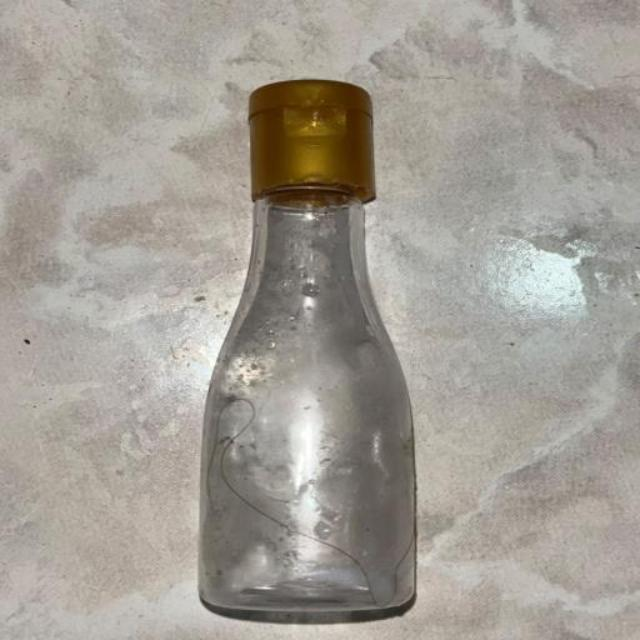PET: (133, 65, 557, 640)
